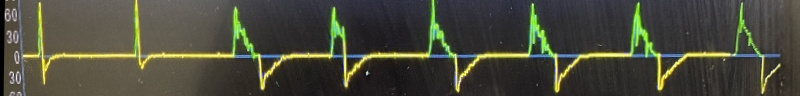hydrop_flow: (20, 0, 767, 96)
